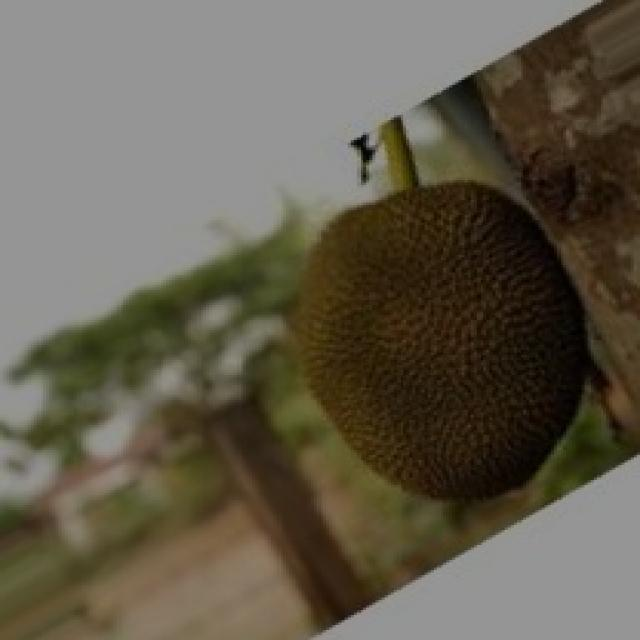Fruit: (258, 160, 610, 520)
